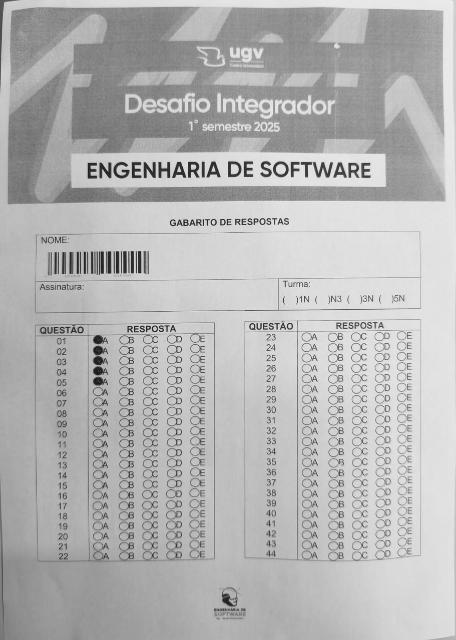bolinha: (93, 346, 103, 356), (93, 356, 103, 366), (94, 376, 104, 386), (93, 336, 103, 344), (94, 366, 102, 376)
